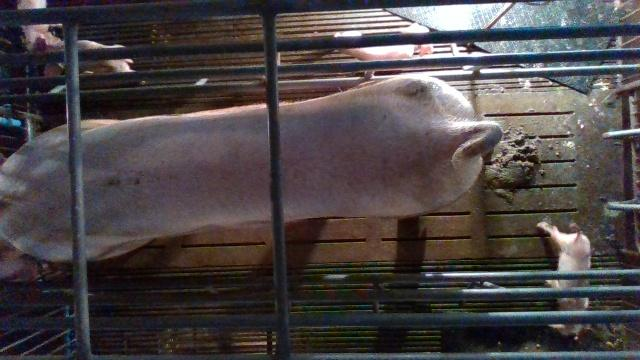piglet: (534, 222, 592, 337), (329, 21, 433, 62), (40, 32, 135, 76), (15, 0, 64, 52)
sow-stand-feed: (2, 74, 503, 263)
